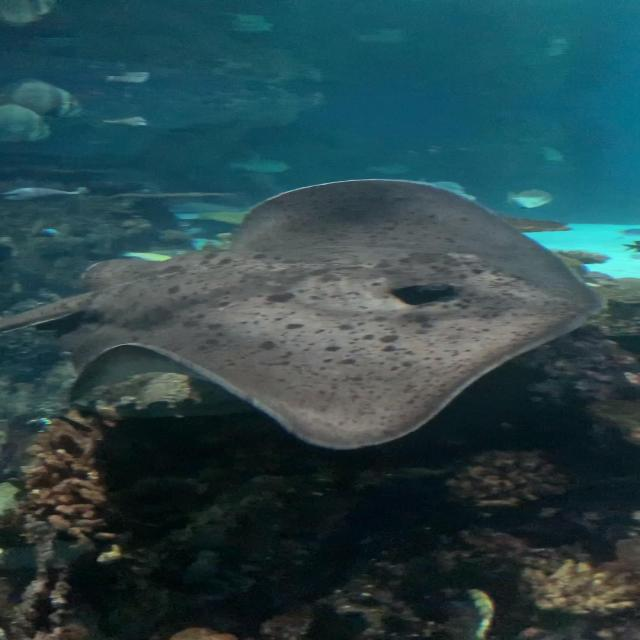fish: (0, 79, 84, 120), (0, 107, 54, 143), (0, 0, 58, 30), (0, 185, 91, 202), (222, 155, 294, 174), (504, 188, 556, 210)
stingray: (61, 178, 606, 452)
